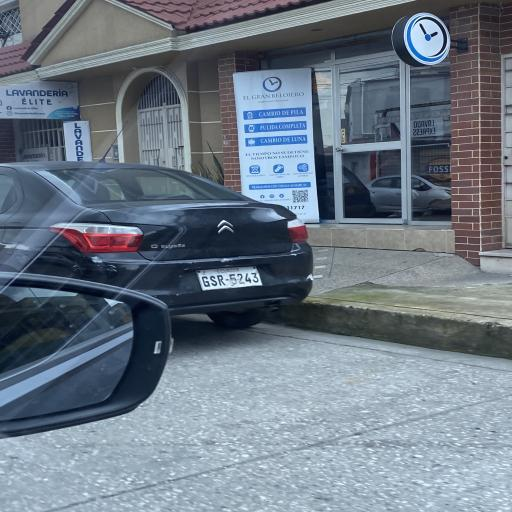license_plate: (228, 272, 236, 288), (217, 274, 226, 287), (202, 276, 210, 290), (237, 273, 245, 286), (251, 272, 259, 284), (210, 275, 217, 288), (246, 272, 251, 286)
